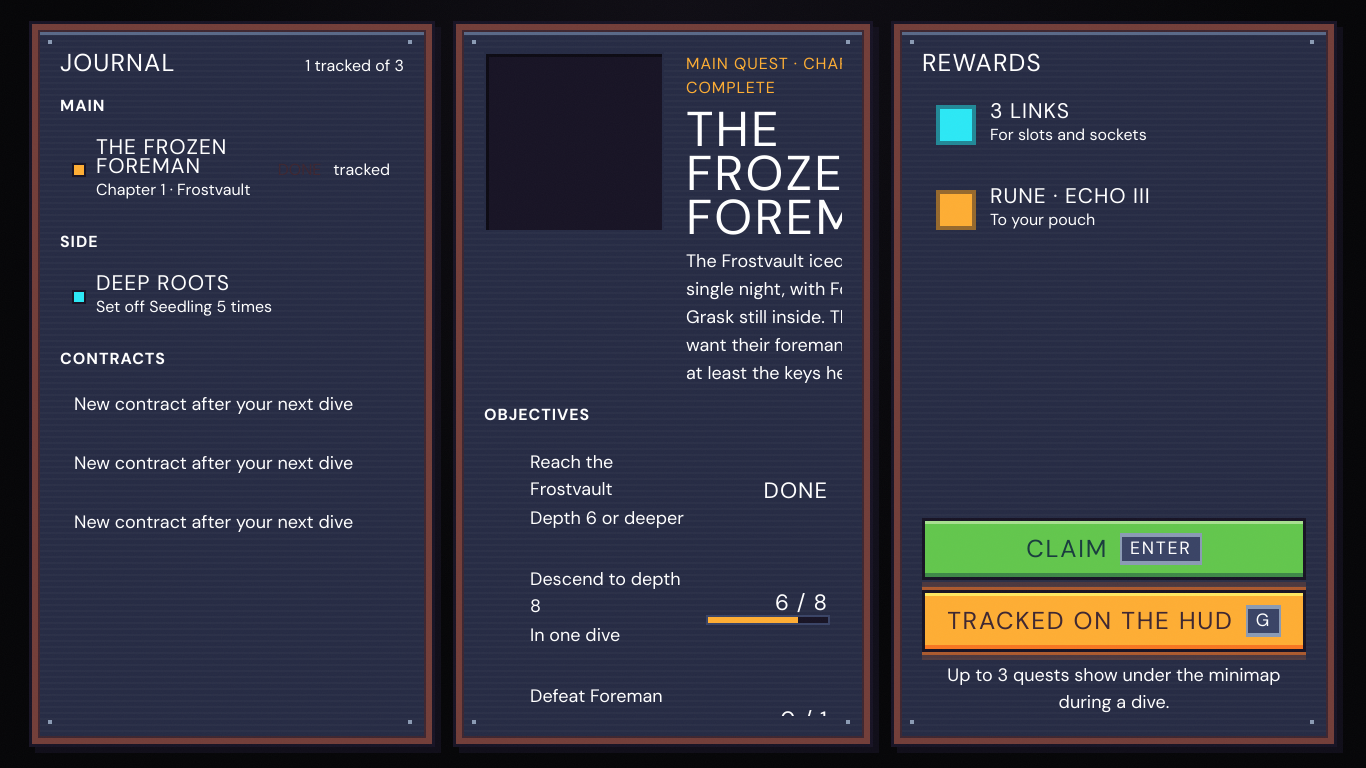
Scenario: QuestsTab › claims a completed quest from its button and from Enter, naming what it gave
The width and height of the screenshot is (1366, 768).
Click the button with test id "quest-claim" at (1067, 549), box [922,518,1306,580]
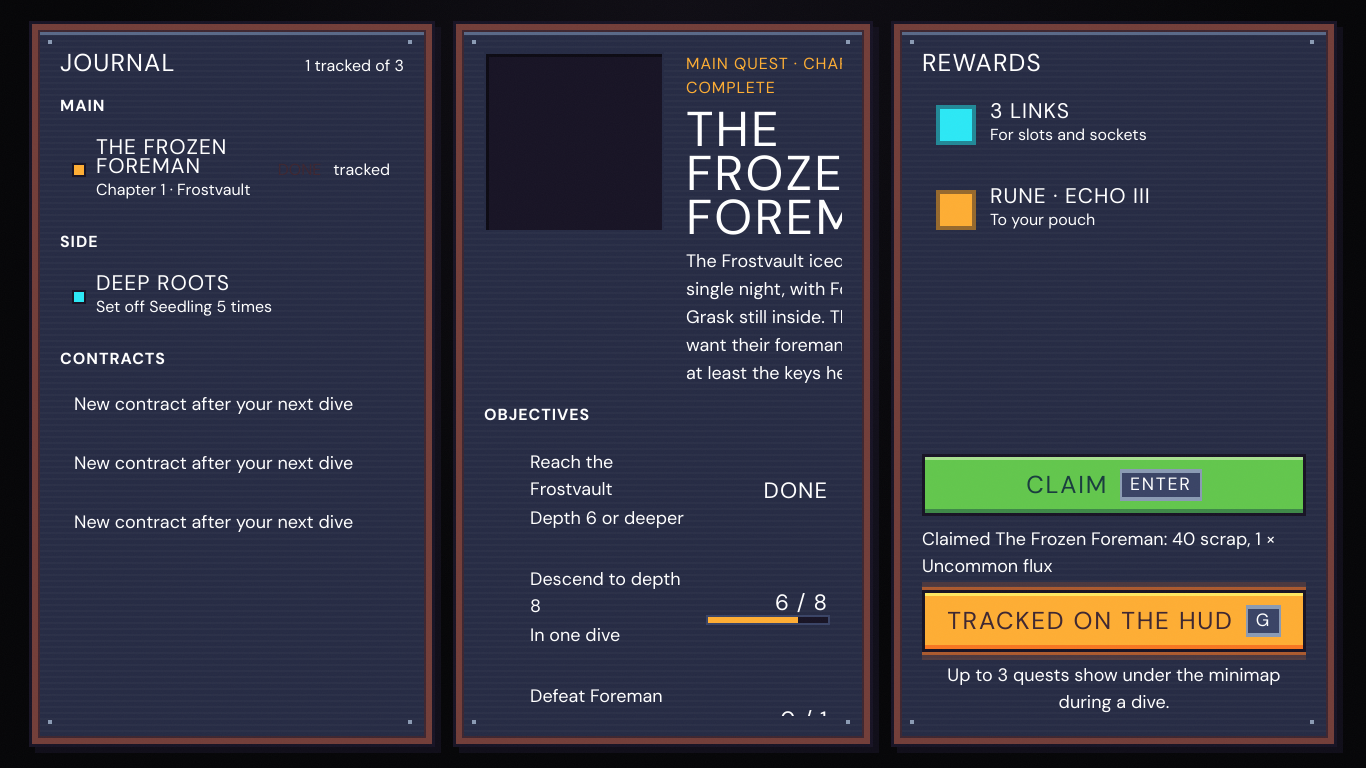
Expected: the message with test id "quest-message" reads "Claimed The Frozen Foreman: 40 scrap, 1 × Uncommon flux", [922,527,1276,578]
Note: Opening a quest still under way: no Claim.
Click the button with test id "quest-deep-roots" at (232, 296), box [60,262,404,331]
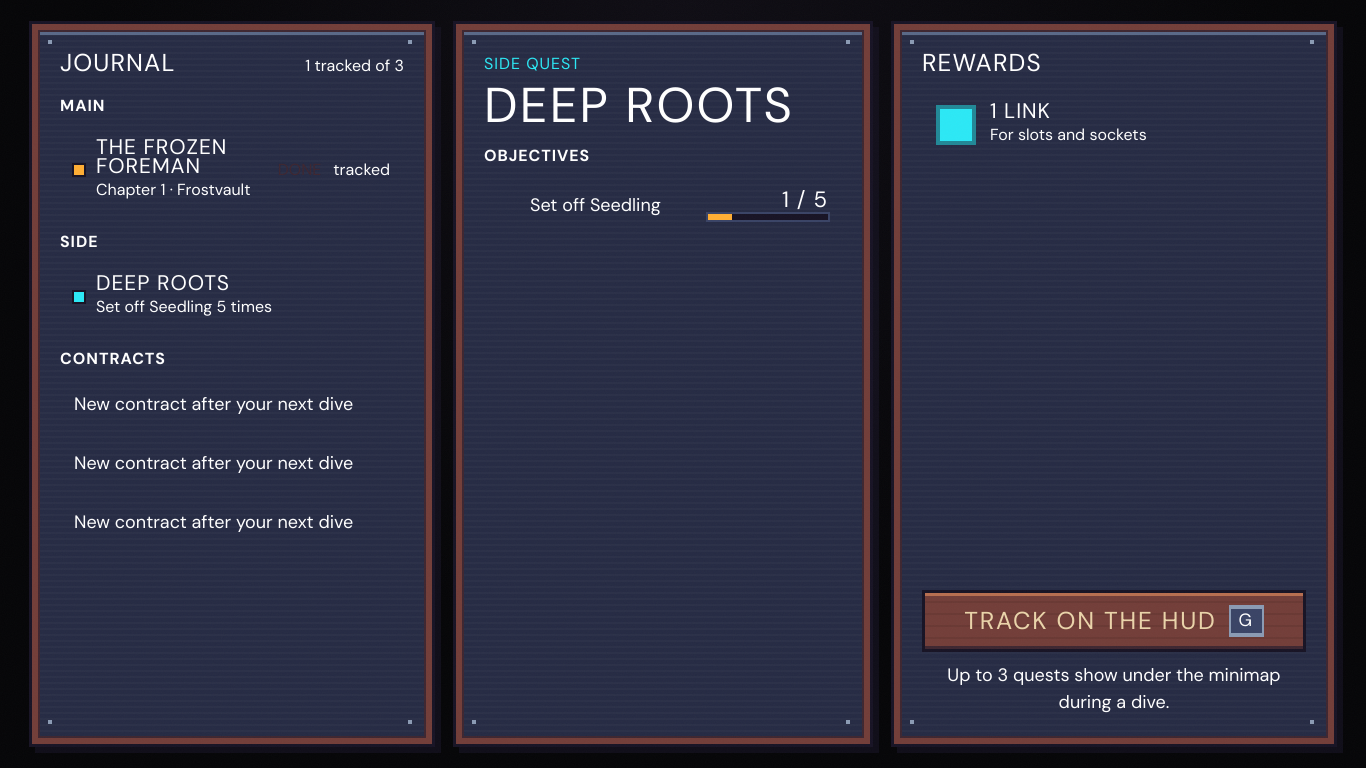
Expected: the button with test id "quest-claim" is gone
Expected: the message with test id "quest-message" is gone
